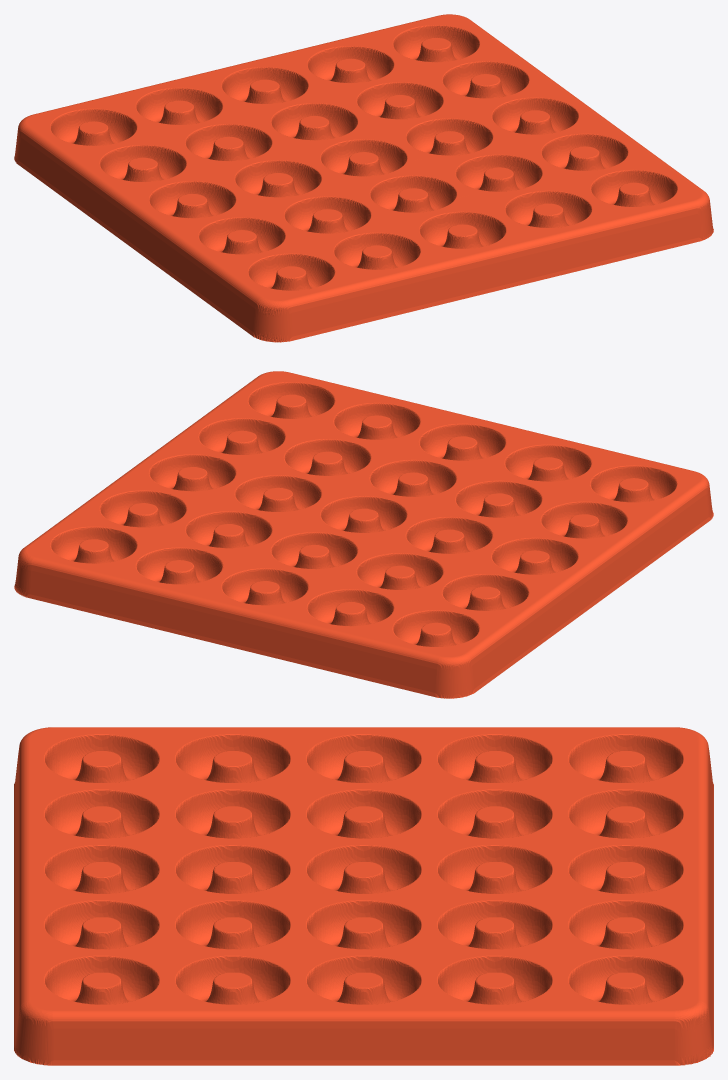
Rendered from mold.glb.
The picture shows the model from 3 angles, top to bottom: view 1: azimuth 30°, elevation 25°; view 2: azimuth 150°, elevation 25°; view 3: azimuth 270°, elevation 25°; orthographic projection. The views are drawn at different scales.
Visible parts, largest first — view 1: geometry_0; view 2: geometry_0; view 3: geometry_0.
Part boxes in pixels (x1=…): geometry_0: x1=14, y1=14, x2=713, y2=342; geometry_0: x1=14, y1=371, x2=713, y2=698; geometry_0: x1=14, y1=727, x2=713, y2=1065.
Size of the model in its own units: 0.1584 by 0.0121 by 0.1584.
